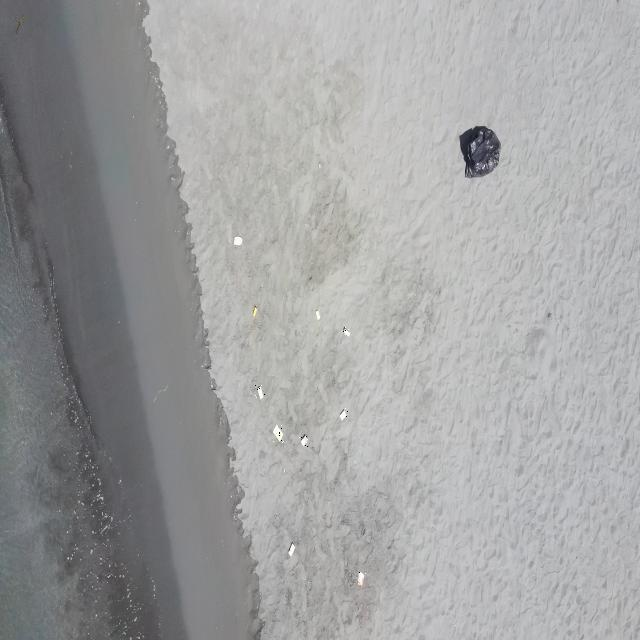Garbage: (460, 125, 500, 176), (15, 16, 24, 32), (272, 424, 281, 440), (356, 572, 364, 586), (287, 542, 295, 555), (256, 386, 263, 399), (300, 434, 307, 446), (340, 408, 347, 420), (342, 326, 350, 335), (232, 236, 240, 244), (252, 304, 256, 316), (316, 310, 319, 319)
